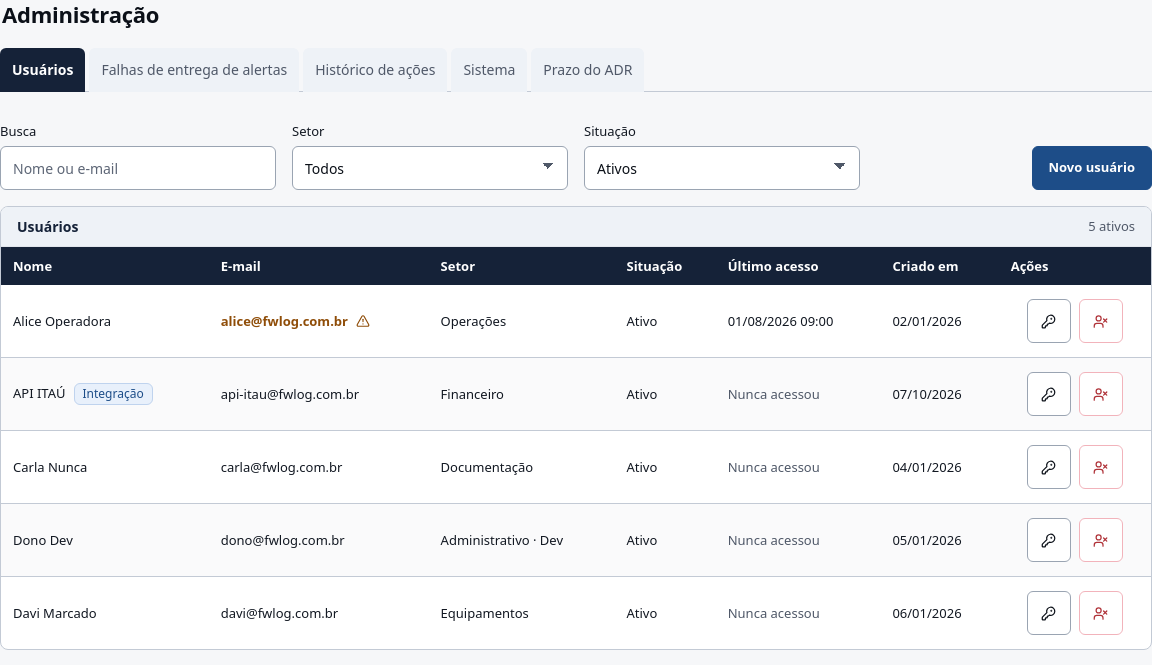
Test case: a linha inativa aparece em cinza com a Situação "Todos"
The width and height of the screenshot is (1152, 665).
Select "Todos" in the dropdown labelled "Situação" at {"x": 722, "y": 168}, box [584,146,860,190]
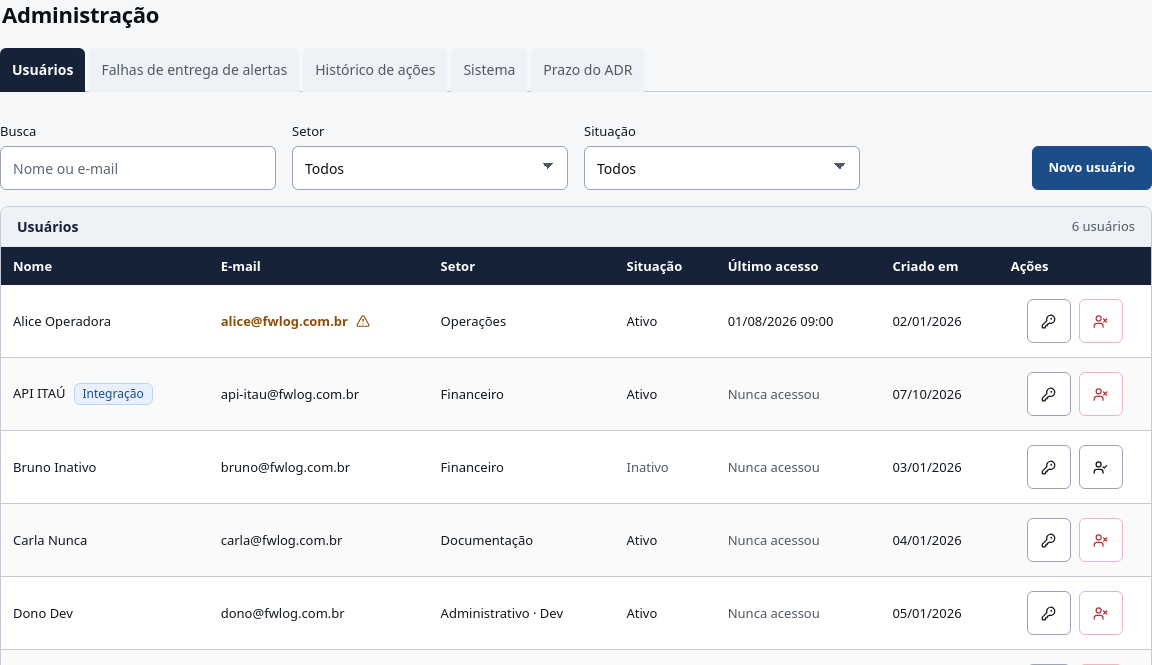
Now the text "Inativo" is shown, box [626,458,669,476]
Now the button named "Reativar Bruno Inativo" is shown, box [1079,445,1123,489]
